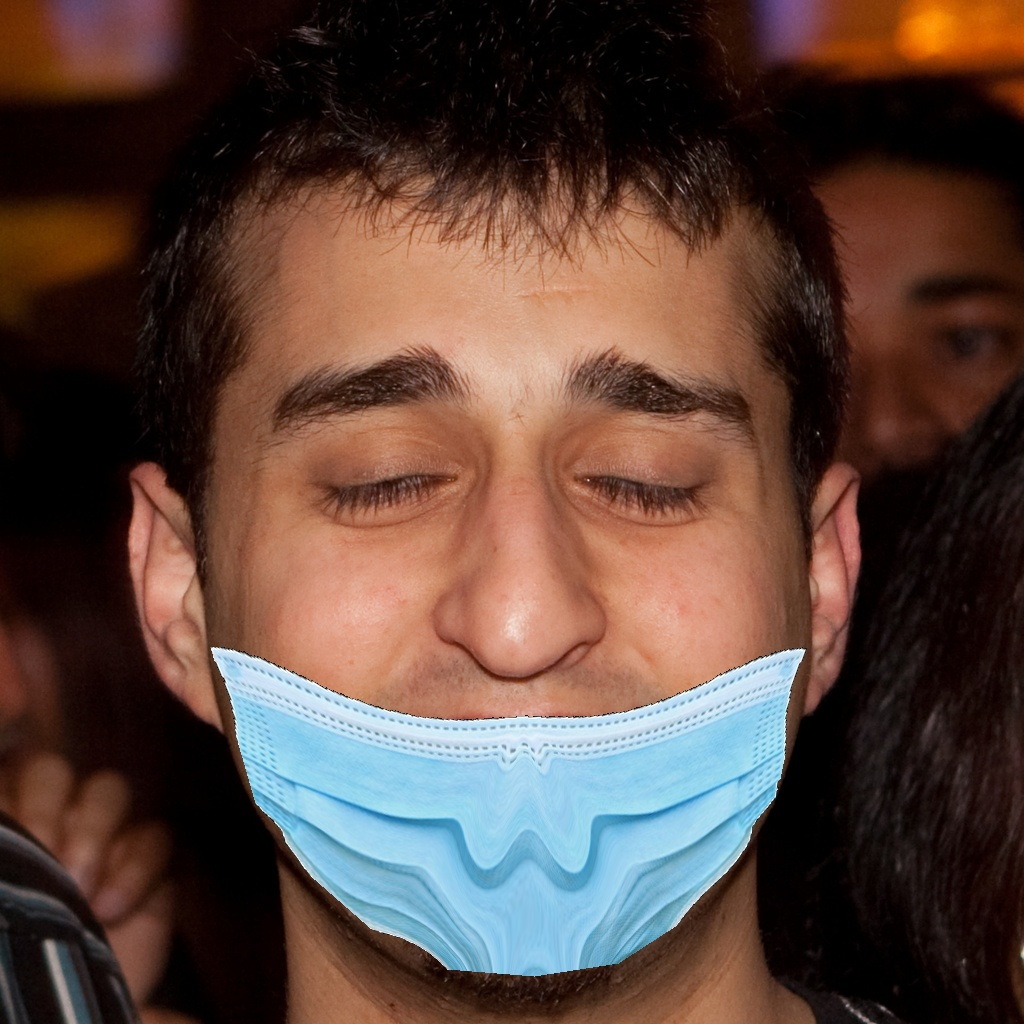mask_weared_incorrect: (186, 356, 843, 996)
